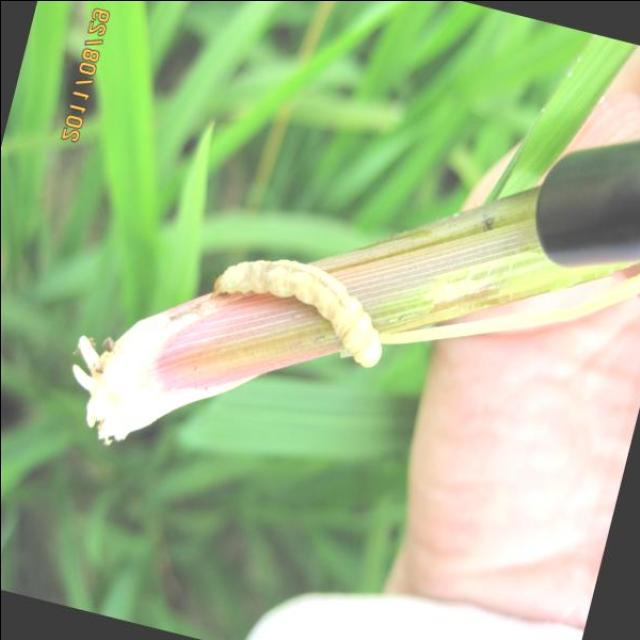stem borer: (214, 258, 380, 366)
